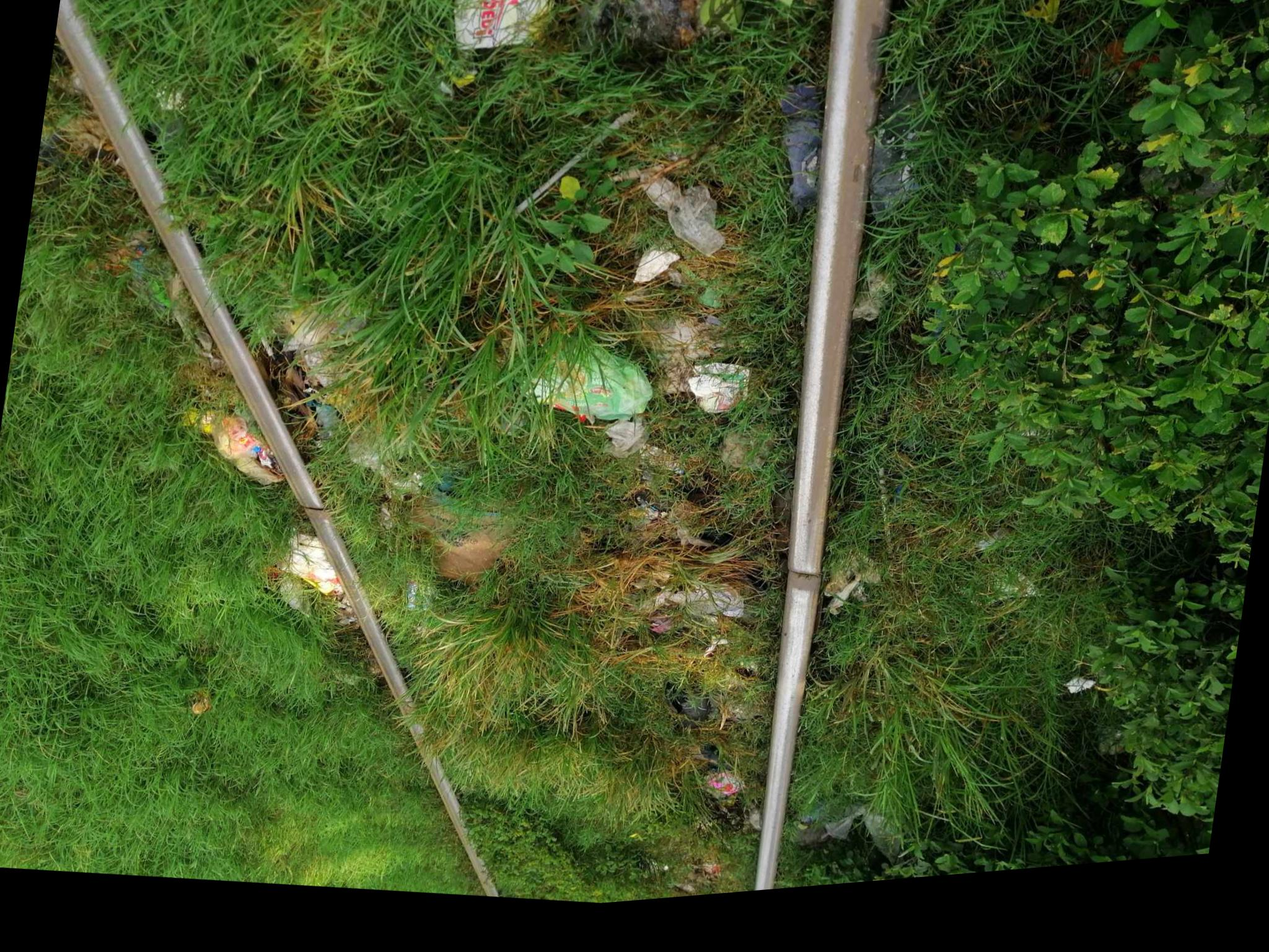person: (758, 545, 851, 631), (276, 482, 348, 548)
